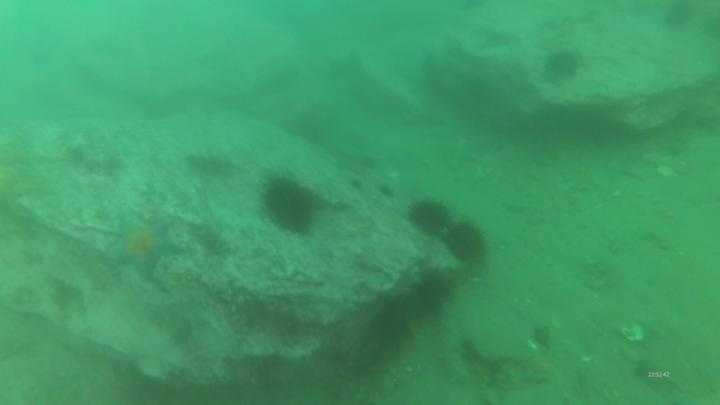echinus: (258, 173, 321, 237), (406, 268, 454, 321), (368, 298, 414, 348), (442, 219, 489, 266), (406, 196, 453, 237), (541, 46, 585, 84), (358, 154, 378, 170), (344, 175, 364, 191), (378, 183, 396, 199)
holothurian: (435, 324, 473, 387), (183, 146, 244, 176)
starfish: (106, 214, 186, 282)
